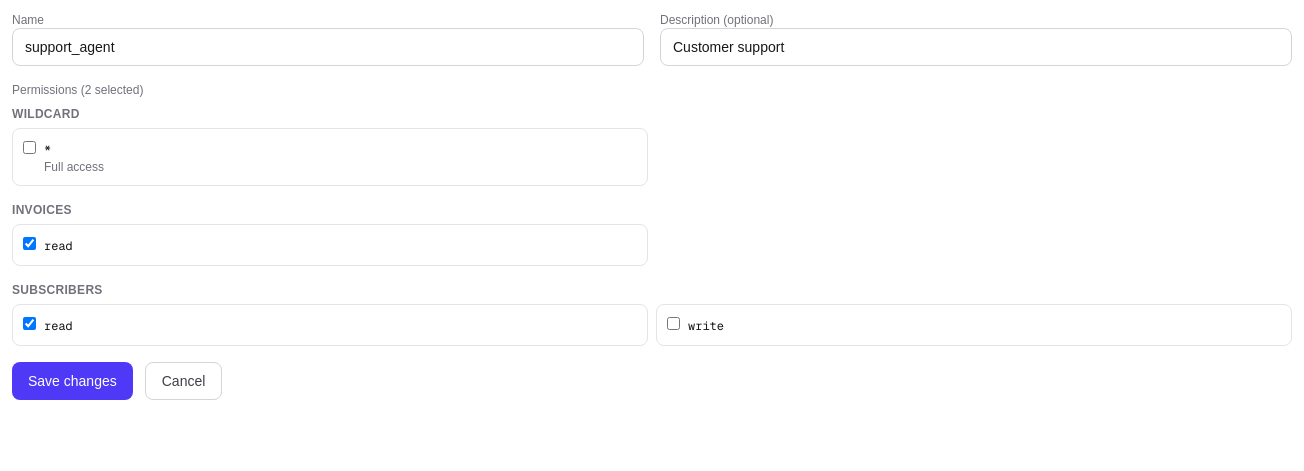
Test: RoleForm (edit) › surfaces the self-protection error from the backend
Click the button "Save changes".
click(72, 381)  # box [12, 362, 133, 400]
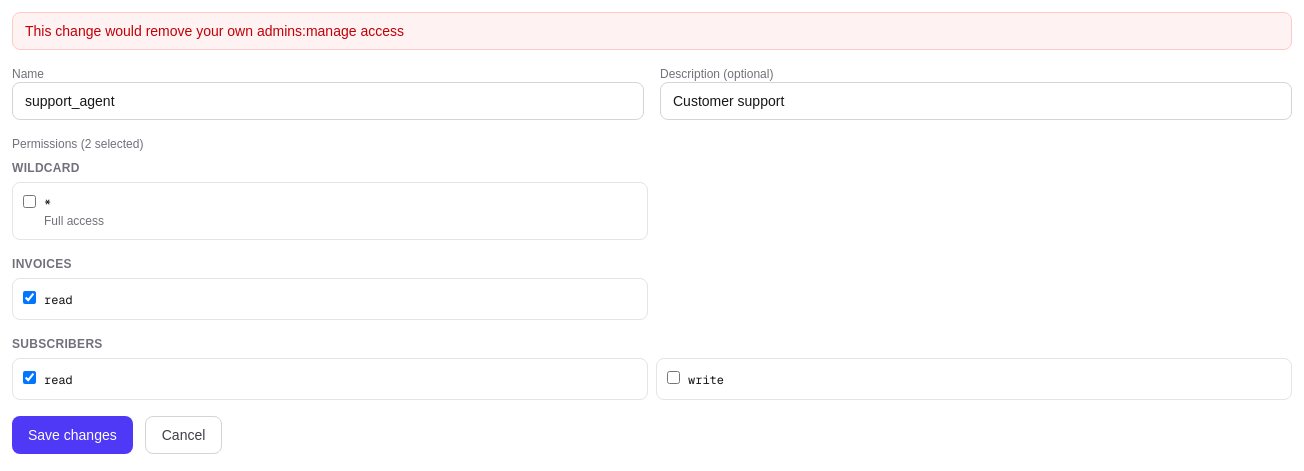
Result: the message reads "This change would remove your own admins:manage access" at [25, 23, 404, 39]
